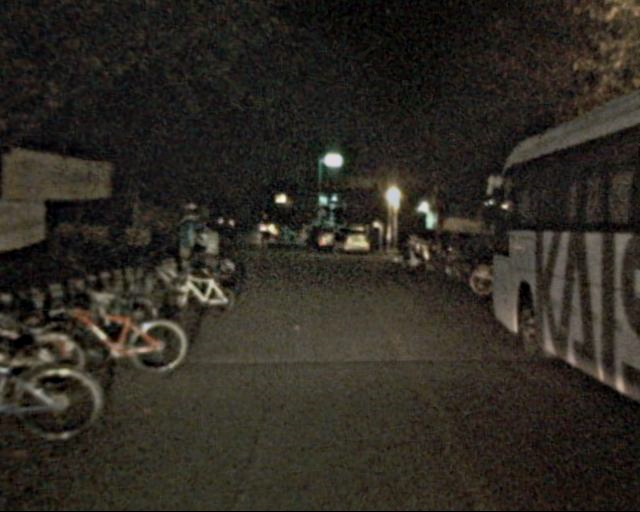person: (196, 224, 224, 293), (307, 228, 321, 261), (330, 231, 343, 262)
